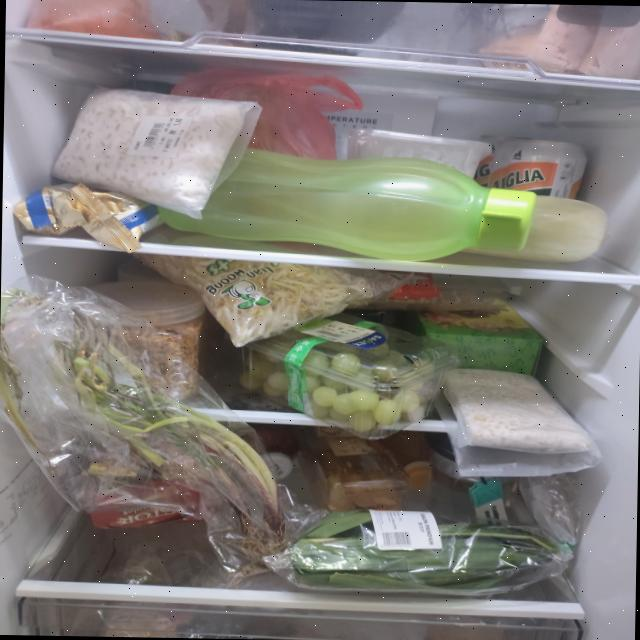bean_sprouts: (132, 252, 377, 350)
corn: (464, 193, 609, 264)
grape: (237, 328, 436, 434)
leafy_greens: (288, 507, 559, 596)
spring_onion: (0, 286, 289, 580)
tempeh: (50, 84, 247, 210), (442, 368, 592, 450)
unknown_bag: (168, 67, 364, 161)
